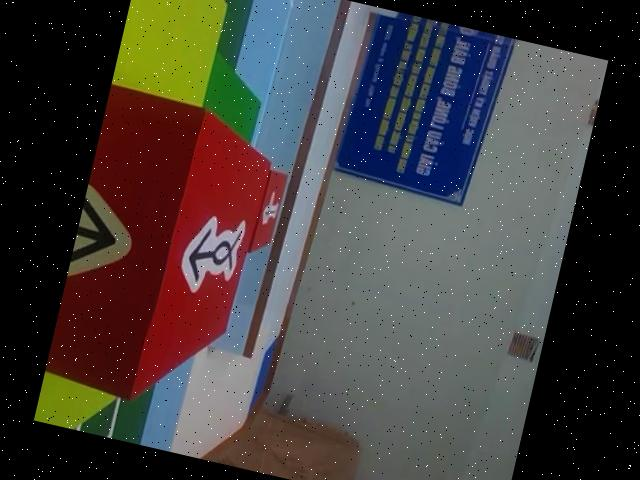R2 Real: (41, 84, 281, 420)
